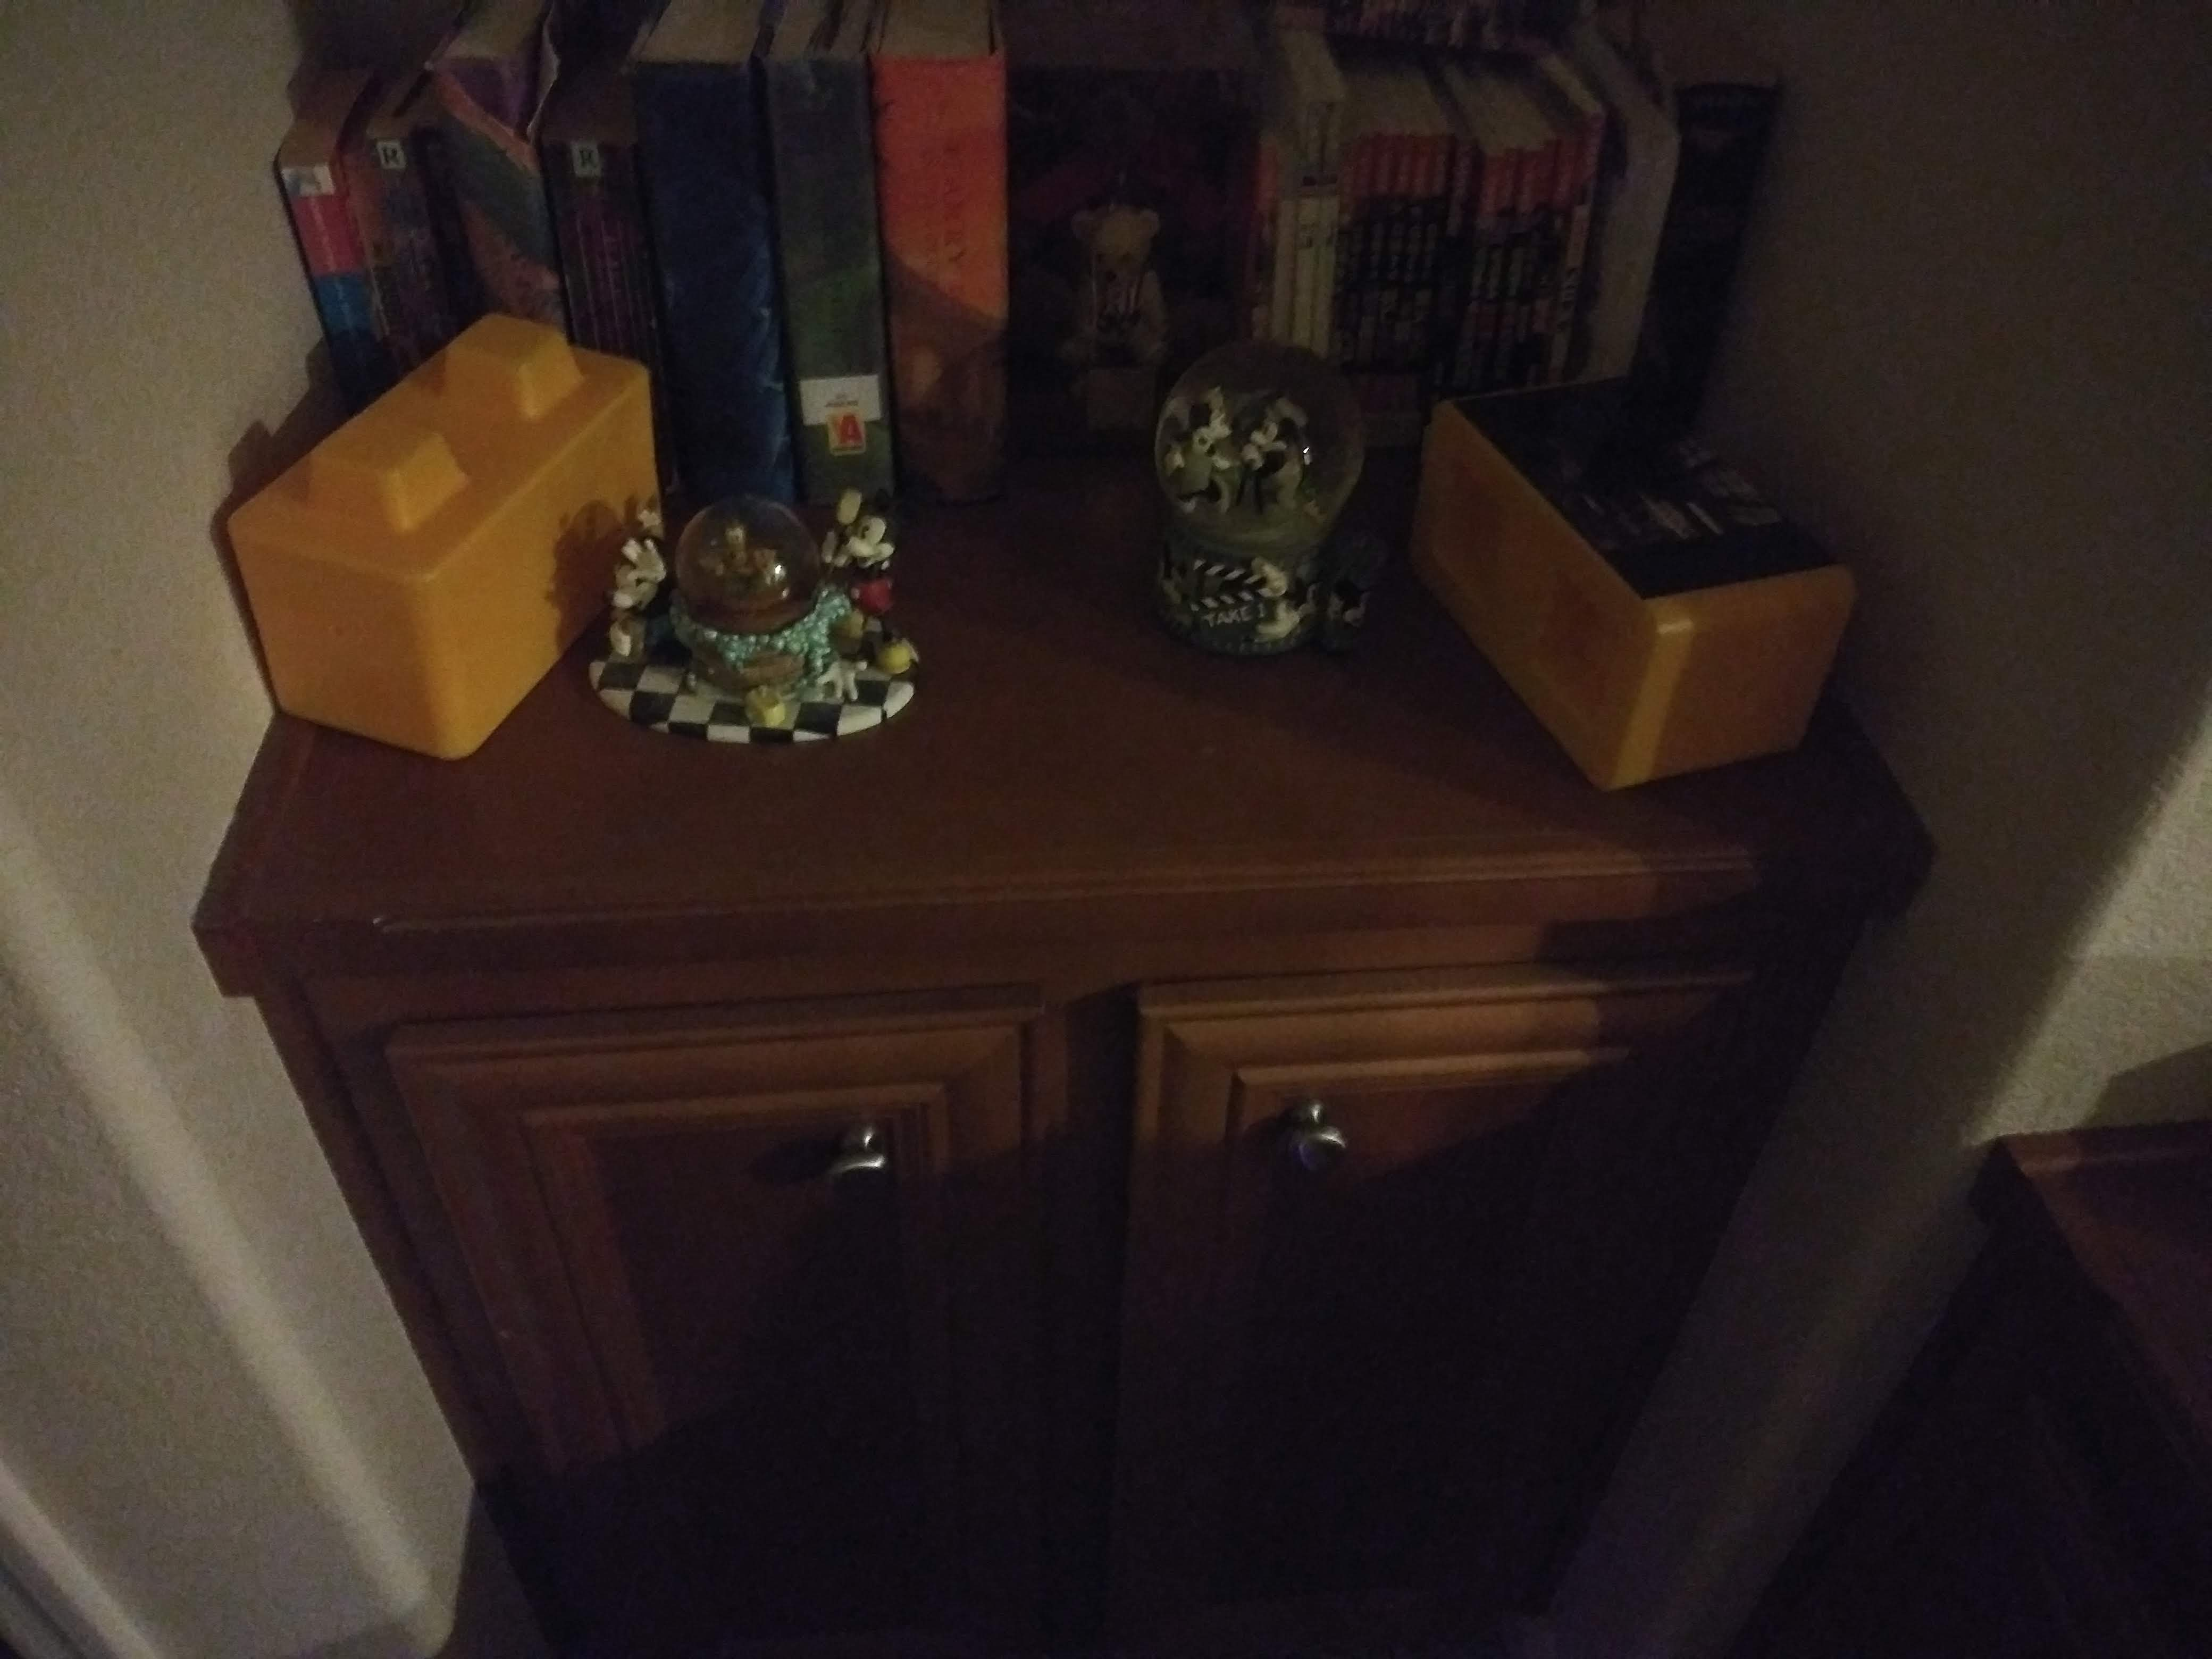skystone: (1423, 382, 1831, 755)
stone: (233, 335, 610, 732)
